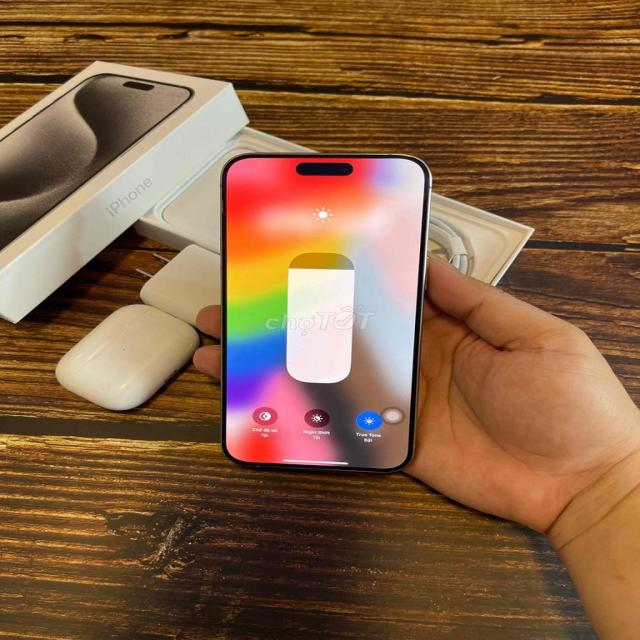gen_15: (215, 148, 431, 476)
